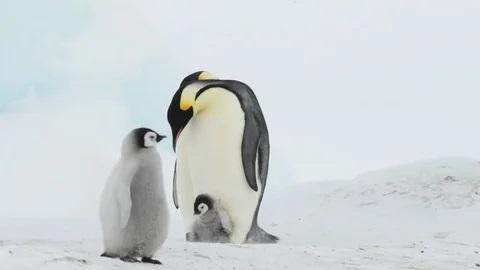emporer: (159, 59, 286, 255)
